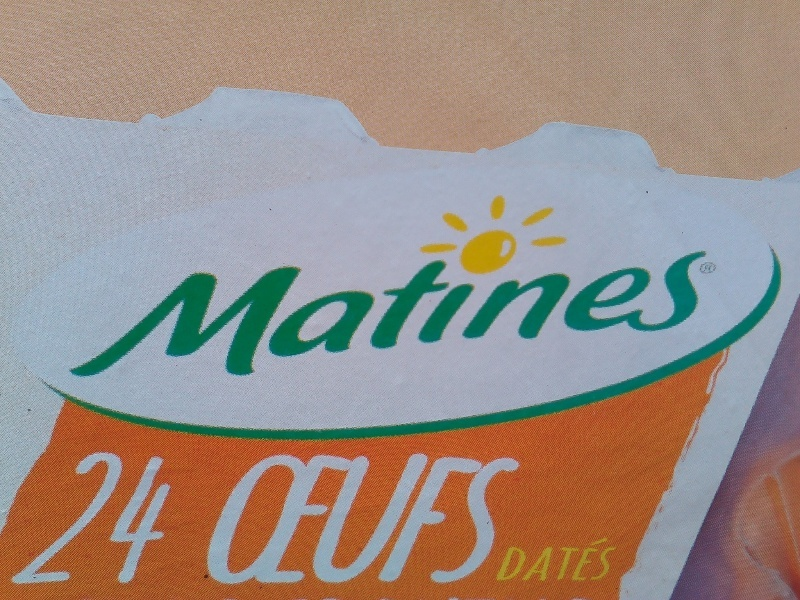text: (705, 245, 721, 388), (97, 447, 112, 593), (113, 447, 128, 593), (129, 447, 144, 593), (145, 447, 160, 593), (161, 447, 176, 593), (81, 245, 96, 388), (97, 245, 112, 388), (113, 245, 128, 388), (129, 245, 144, 388), (145, 245, 160, 388), (161, 245, 176, 388), (177, 245, 192, 388), (193, 245, 208, 388), (209, 245, 224, 388), (225, 245, 240, 388), (241, 245, 256, 388), (257, 245, 272, 388), (273, 245, 288, 388), (289, 245, 304, 388), (305, 245, 320, 388), (321, 245, 336, 388), (337, 245, 352, 388), (353, 245, 368, 388), (369, 245, 384, 388), (385, 245, 400, 388), (401, 245, 416, 388), (417, 245, 432, 388), (433, 245, 448, 388), (449, 245, 464, 388), (465, 245, 480, 388), (481, 245, 496, 388), (497, 245, 512, 388), (513, 245, 528, 388), (529, 245, 544, 388), (545, 245, 560, 388), (561, 245, 576, 388), (577, 245, 592, 388), (593, 245, 608, 388), (609, 245, 624, 388), (625, 245, 640, 388), (641, 245, 656, 388), (657, 245, 672, 388), (673, 245, 688, 388), (689, 245, 704, 388), (257, 449, 272, 588), (273, 449, 288, 588), (289, 449, 304, 588), (305, 449, 320, 588), (321, 449, 336, 588), (337, 449, 352, 588), (353, 449, 368, 588), (369, 449, 384, 588), (385, 449, 400, 588), (401, 449, 416, 588), (417, 449, 432, 588), (433, 449, 448, 588), (449, 449, 464, 588), (465, 449, 480, 588), (481, 449, 496, 588), (497, 449, 512, 588), (513, 449, 528, 588), (82, 447, 96, 593), (68, 245, 80, 388), (177, 447, 185, 593), (248, 449, 256, 588), (529, 449, 536, 588), (513, 536, 528, 584), (529, 536, 544, 584), (545, 536, 560, 584), (561, 536, 576, 584), (577, 536, 592, 584), (593, 536, 608, 584), (609, 536, 622, 584), (705, 262, 720, 273), (511, 536, 512, 584)
